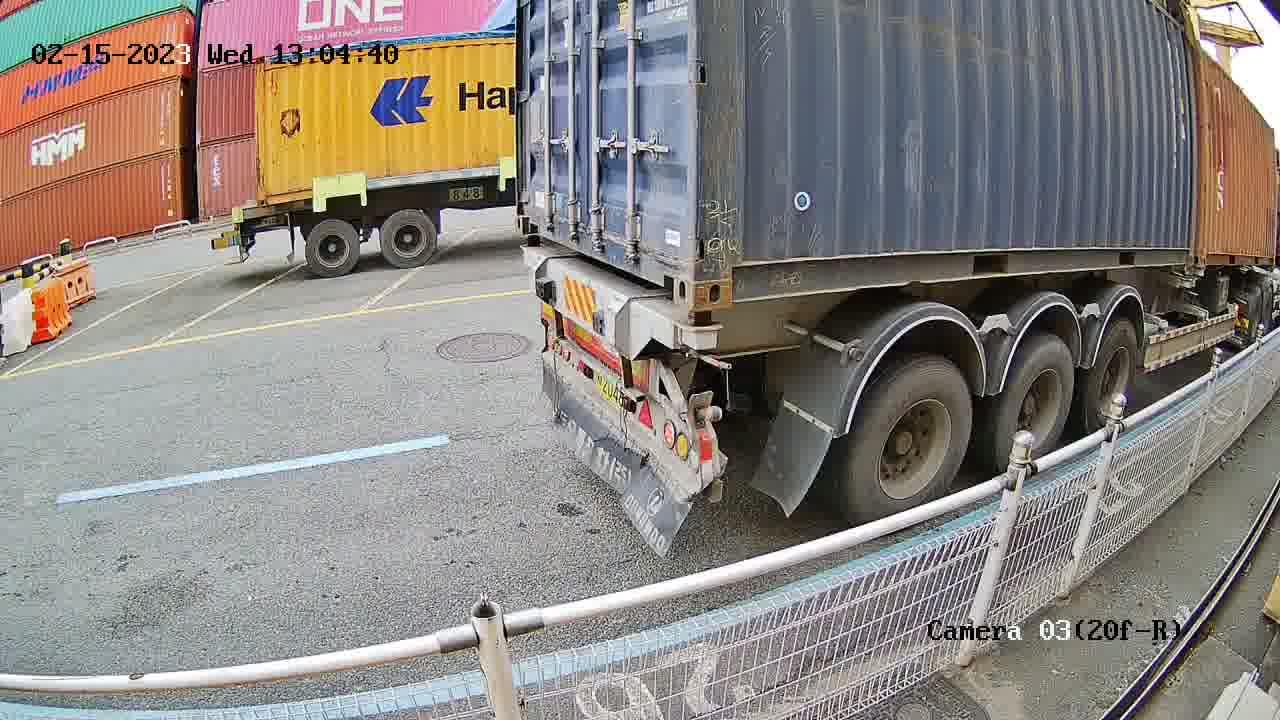Chassis: (522, 248, 700, 362)
Cone: (688, 310, 723, 348)
Hole_L: (693, 236, 767, 309), (514, 185, 555, 240)
Hole_R: (652, 232, 698, 304)
Tire: (841, 360, 973, 524), (997, 342, 1075, 464), (1088, 324, 1140, 424)
